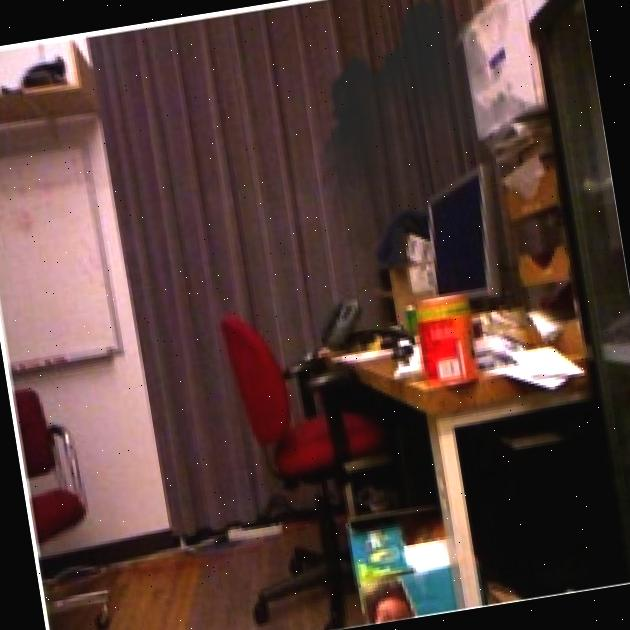smoke: (296, 0, 561, 279)
